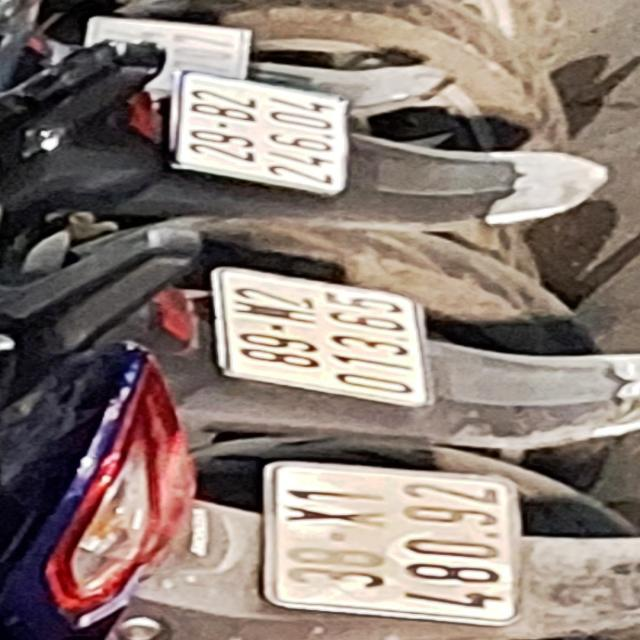license_plate: (247, 453, 537, 635), (201, 262, 443, 418), (156, 62, 360, 207)
